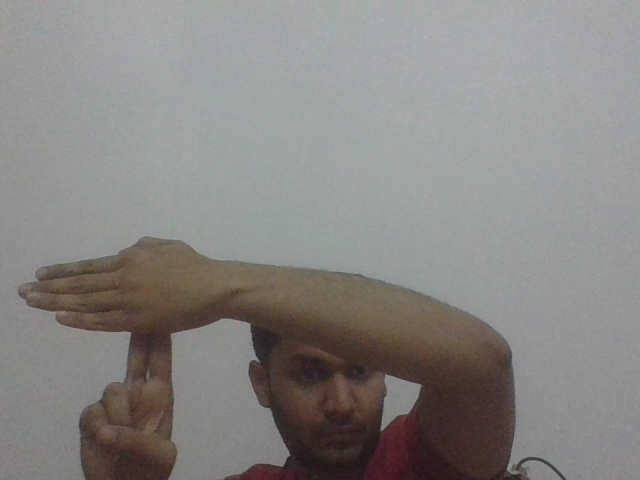N: (16, 234, 205, 386)
